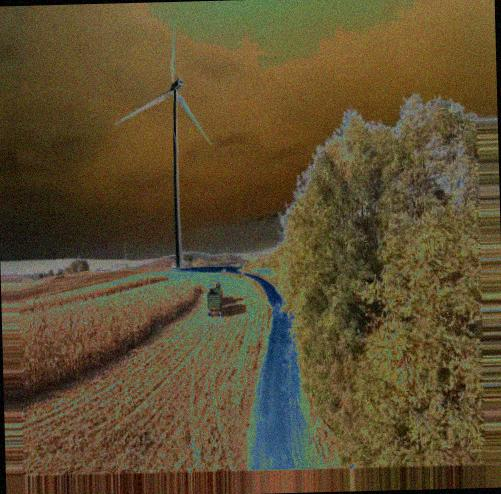wind turbine: (115, 26, 213, 269)
